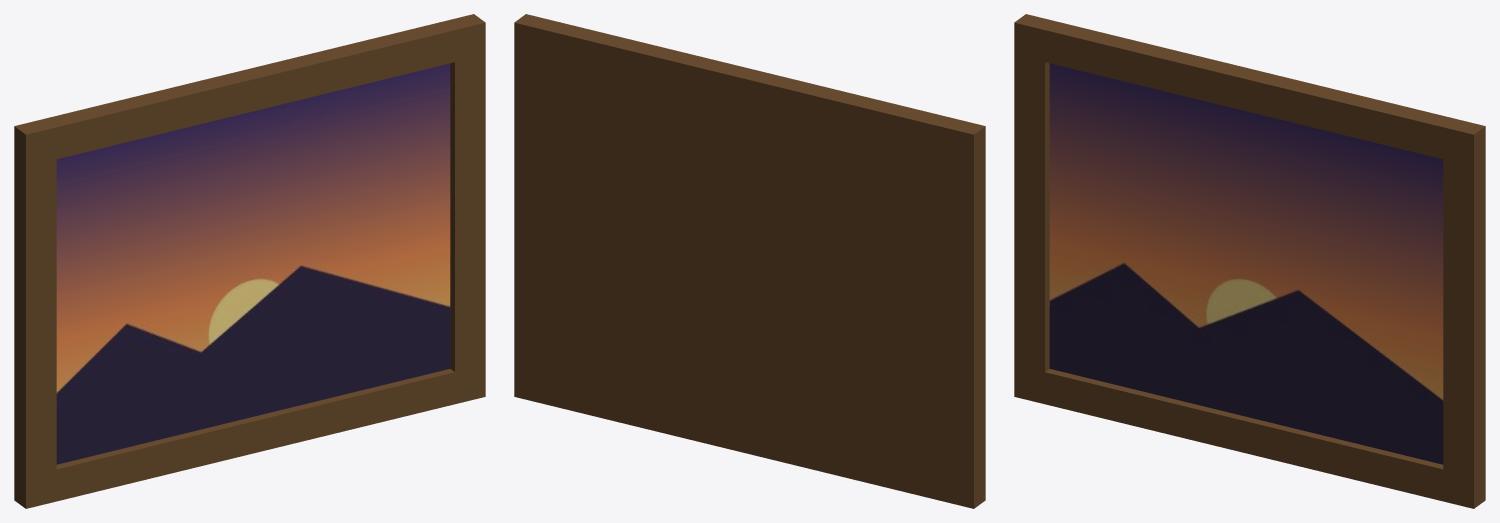
File: painting_sunset.glb
The picture shows the model from 3 angles, left to right: view 1: azimuth 30°, elevation 25°; view 2: azimuth 150°, elevation 25°; view 3: azimuth 330°, elevation 25°; orthographic projection.
Visible parts, largest first — view 1: painting; view 2: painting; view 3: painting.
Part boxes in pixels (x1,y1,x2,y2): painting: [14, 14, 485, 508]; painting: [514, 14, 985, 508]; painting: [1014, 14, 1485, 508].
Bounding box in the file's own units: 0.9 × 0.7 × 0.04.
2 materials, 1 textured.
